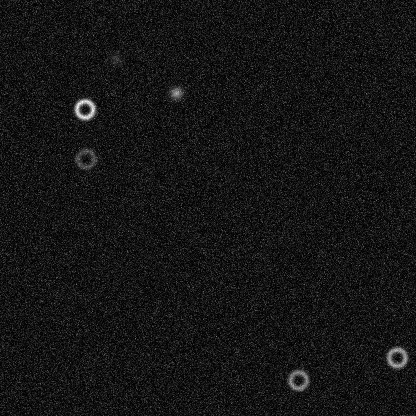Ring: (286, 368, 310, 392), (72, 97, 96, 121), (73, 146, 97, 170), (384, 345, 408, 369)
Spot: (107, 50, 123, 66), (168, 84, 184, 100)
